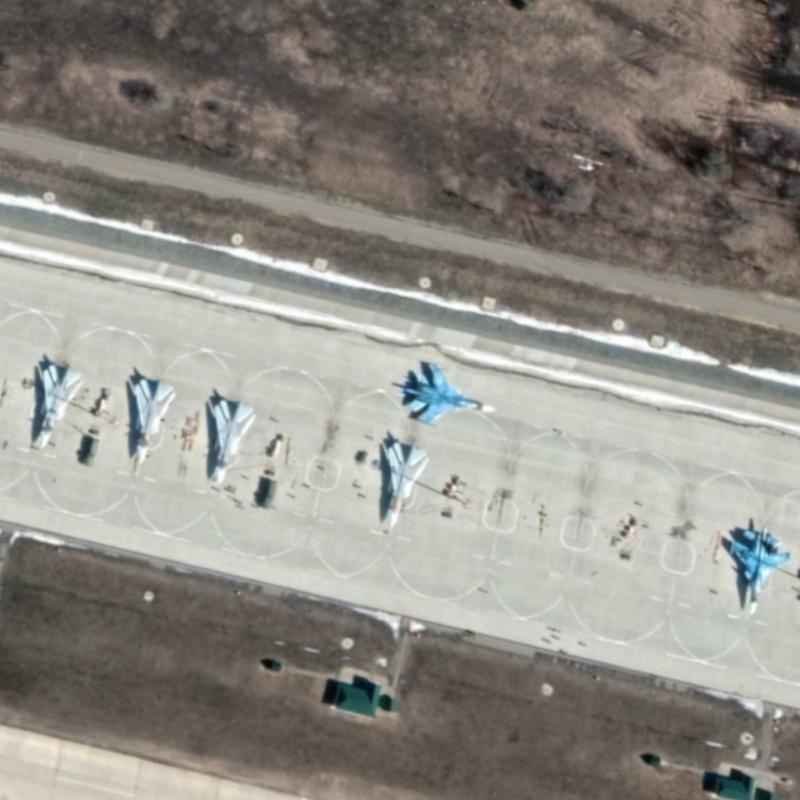A19: (402, 360, 496, 427), (728, 524, 792, 615)
A20: (384, 439, 431, 530), (36, 361, 83, 451), (131, 376, 177, 465), (211, 397, 257, 485)
